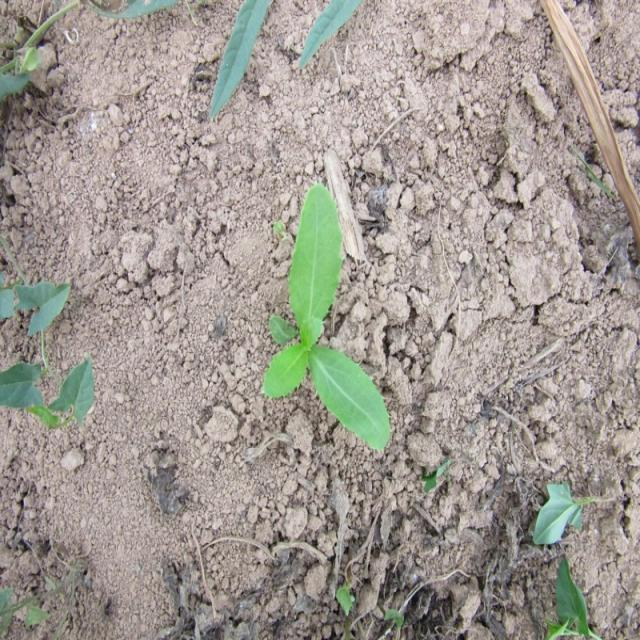field_thistle: (257, 198, 422, 456)
